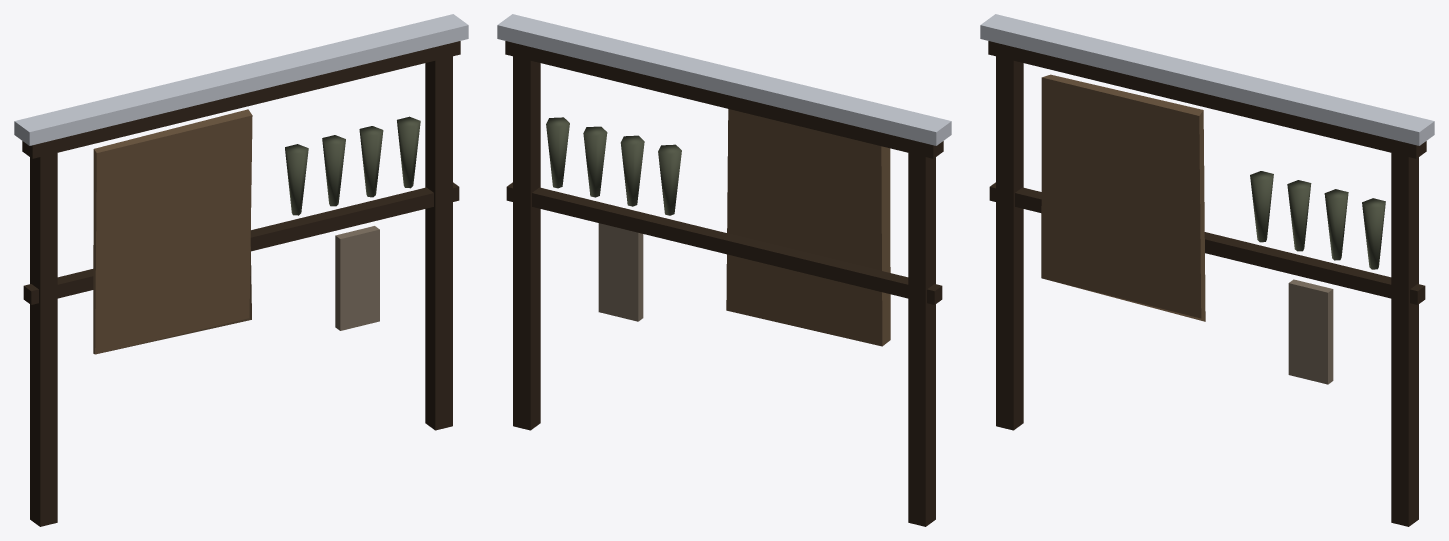
File: drying_rack.glb
3 views of the same model, side by side, from view 1: azimuth 30°, elevation 25°; view 2: azimuth 150°, elevation 25°; view 3: azimuth 330°, elevation 25° (orthographic).
Visible parts, largest first — view 1: drying_rack; view 2: drying_rack; view 3: drying_rack.
Part boxes in pixels (x1,y1,x2,y2): drying_rack: [14, 14, 468, 526]; drying_rack: [497, 14, 951, 526]; drying_rack: [980, 14, 1434, 526].
Bounding box in the file's own units: 2 × 1.74 × 0.1431.
